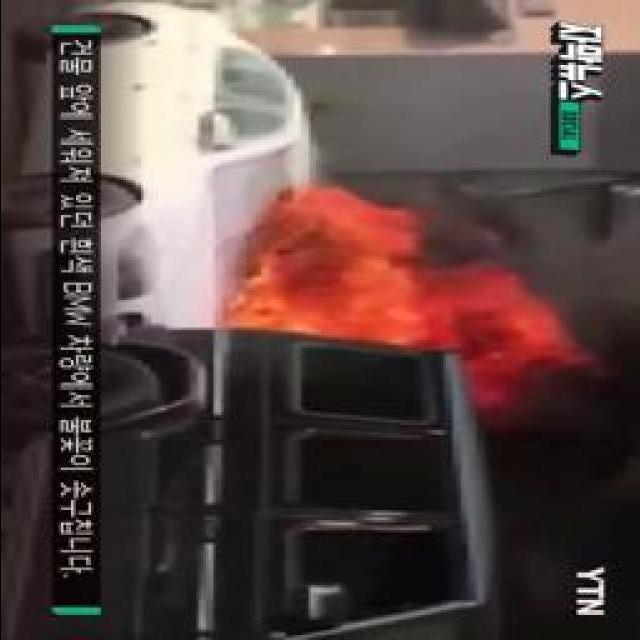Fire: (232, 197, 545, 402)
